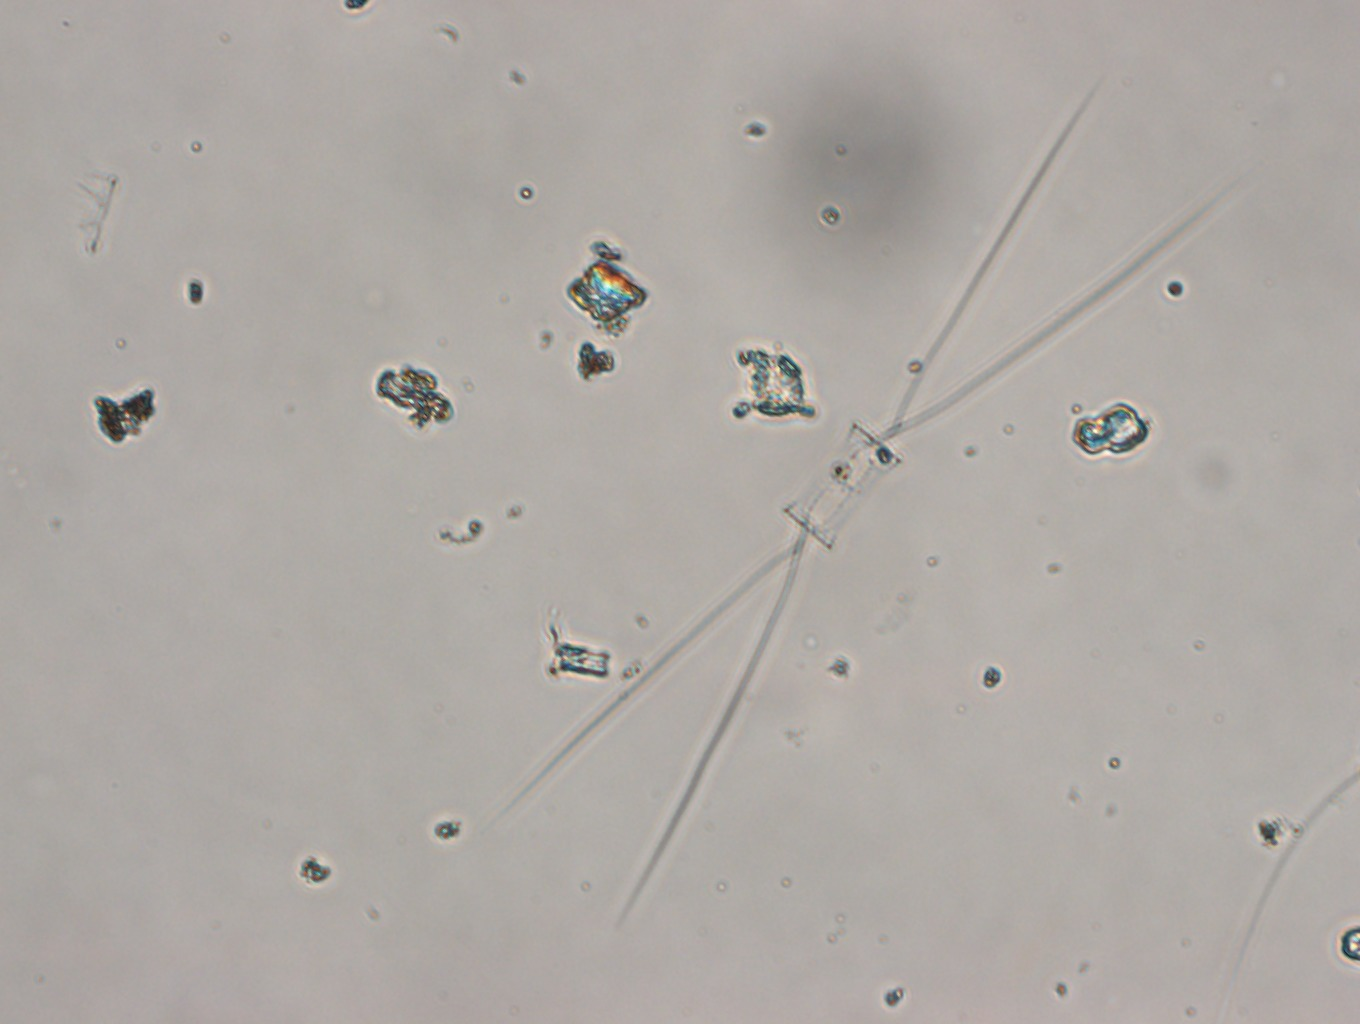chaetoceros: (514, 87, 1223, 886)
